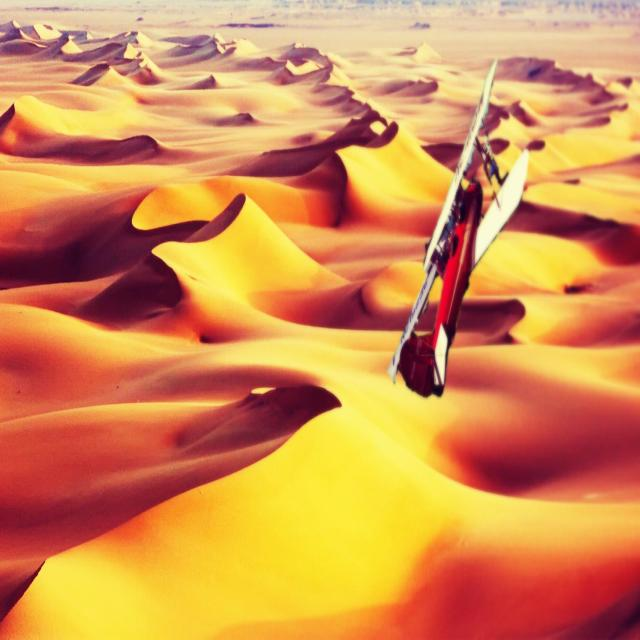airplane: (387, 56, 529, 398)
